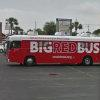Bus: (4, 30, 100, 73)
